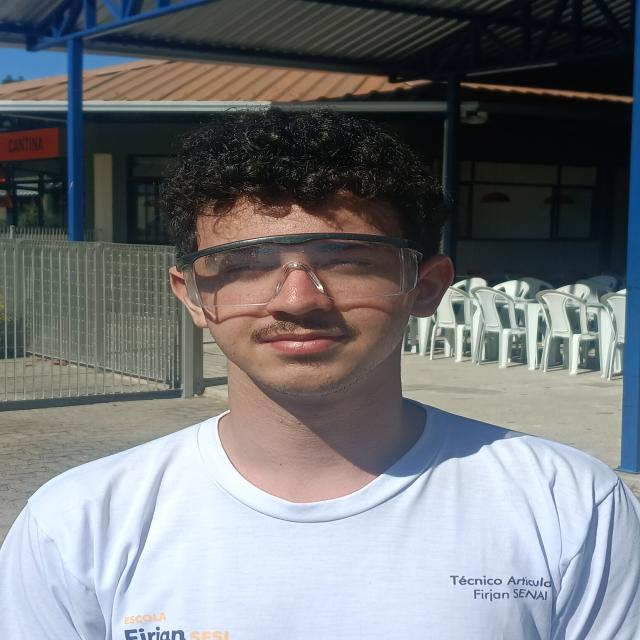oculos-epi: (178, 233, 419, 308)
